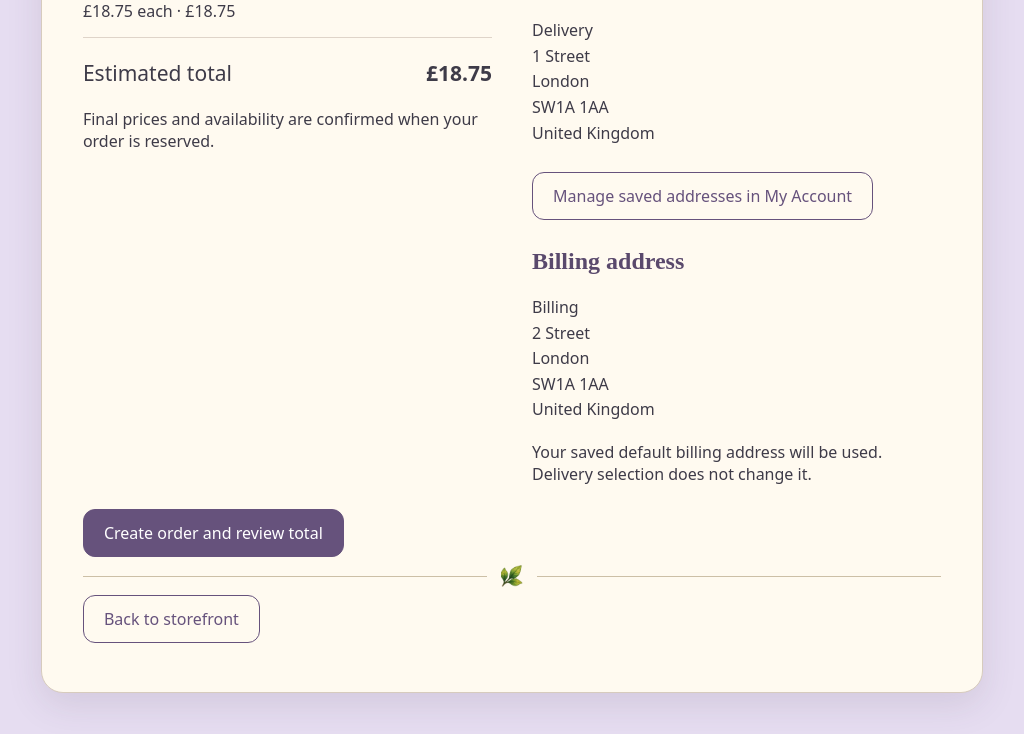
Test: allocation-aware checkout compatibility › retires a definite allocation conflict, refreshes cart, and requires explicit new customer action
The image size is (1024, 734).
(page scrolled)
Click the button "Create order and review total".
click(213, 533)  # box [83, 509, 344, 557]
(page scrolled)
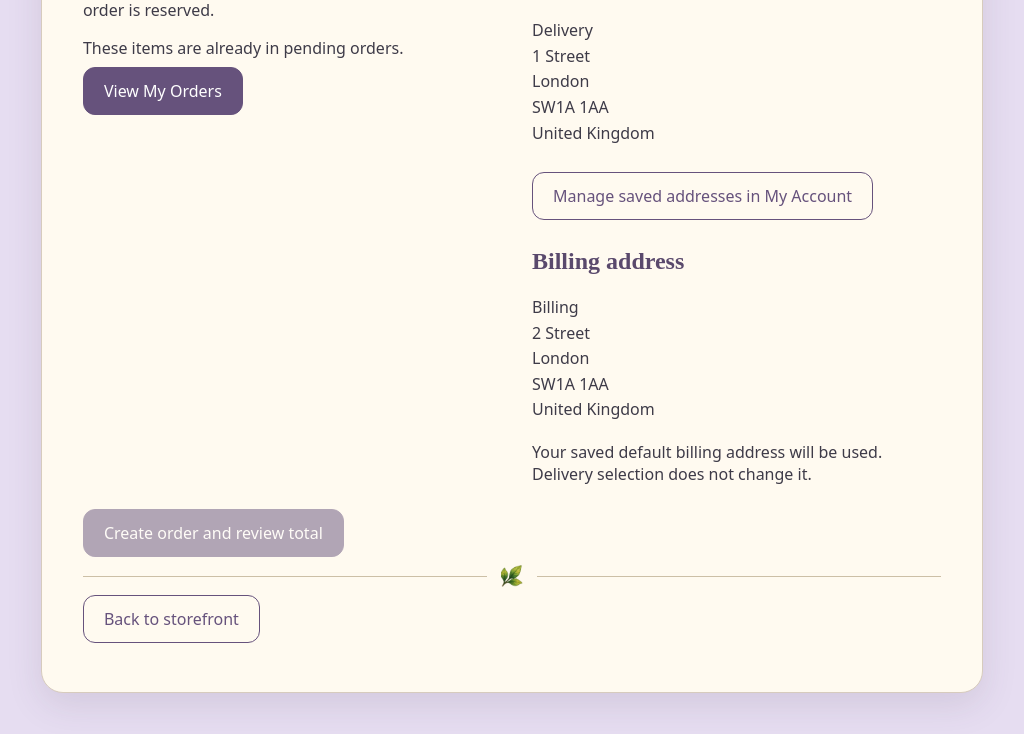
Now the text "View My Orders" is shown, box [83, 67, 243, 115]
